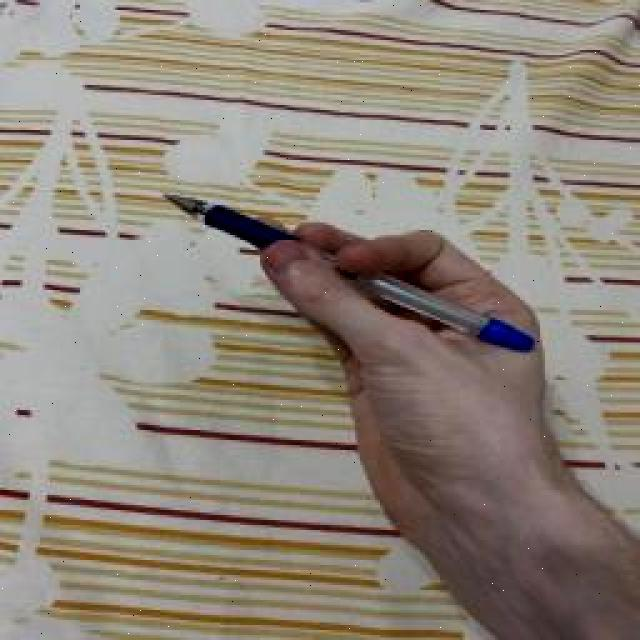pen: (160, 193, 535, 353)
